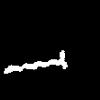half_double_crochet: (4, 51, 66, 72)
